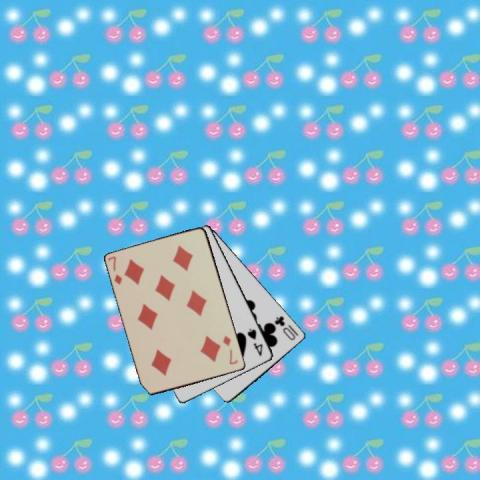10c: (272, 313, 300, 342)
4s: (244, 325, 264, 358)
7d: (220, 332, 239, 366), (106, 253, 124, 287)
